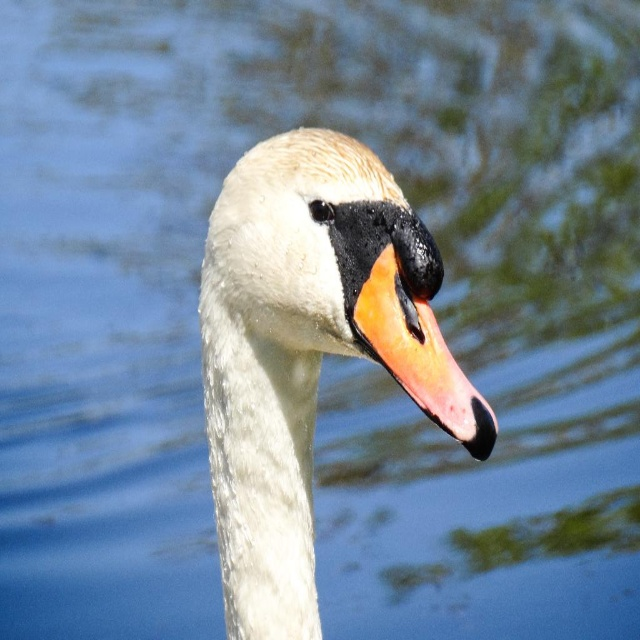Duck: (187, 135, 484, 612)
